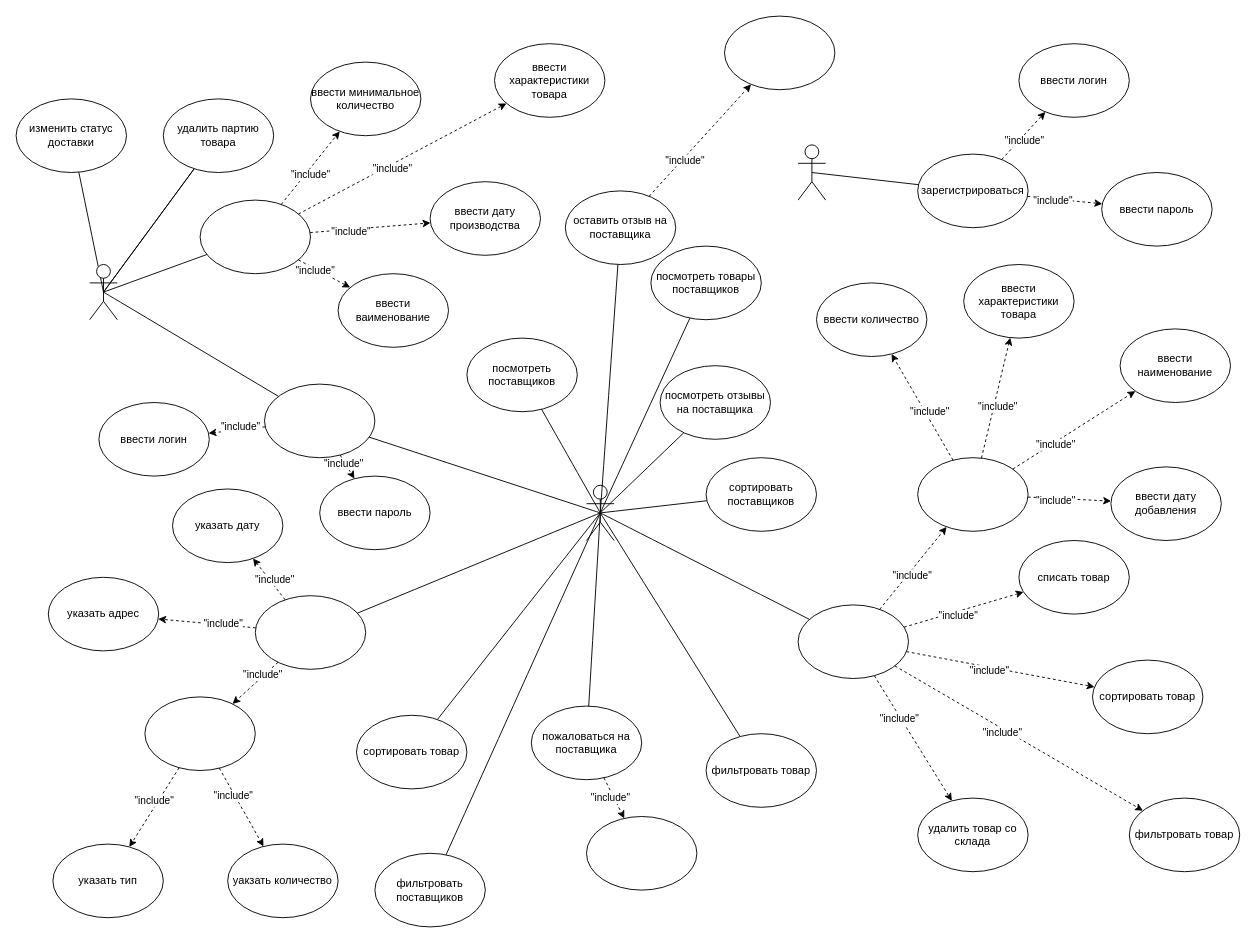
Some shapes in this 1256 by 943 pixel diagram are drawn without their labels. Each missing label, with the centre of its shape:
"ввести текст отзыва" goes at point (779, 52).
"войти в учетку" goes at point (319, 420).
"гость" goes at point (811, 172).
"добавить партию товара" goes at point (254, 236).
"добавить товар на склад" goes at point (972, 494).
"заказать поставку" goes at point (310, 632).
"заказать товар" goes at point (199, 733).
"магазин" goes at point (600, 512).
"написать причину жалобы" goes at point (641, 853).
"поставщик" goes at point (103, 292).
"управлять складом" goes at point (852, 641).
